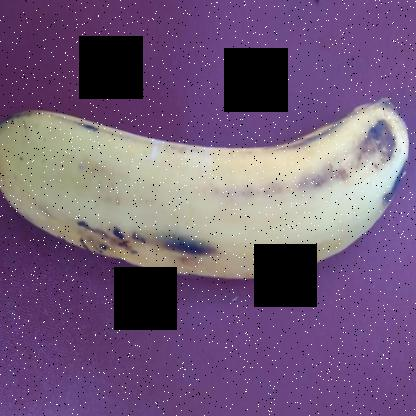ripe: (1, 65, 415, 318)
